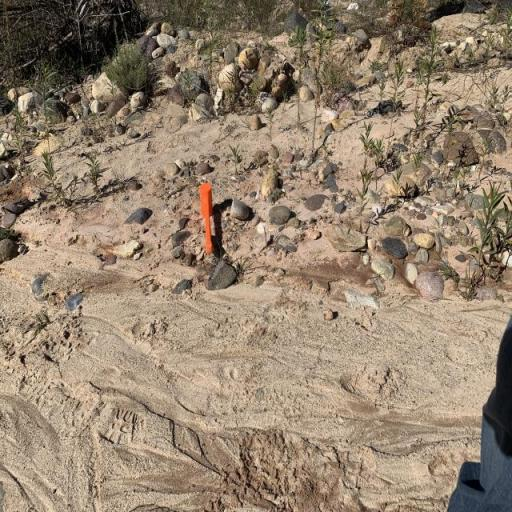mallet: (197, 181, 217, 256)
